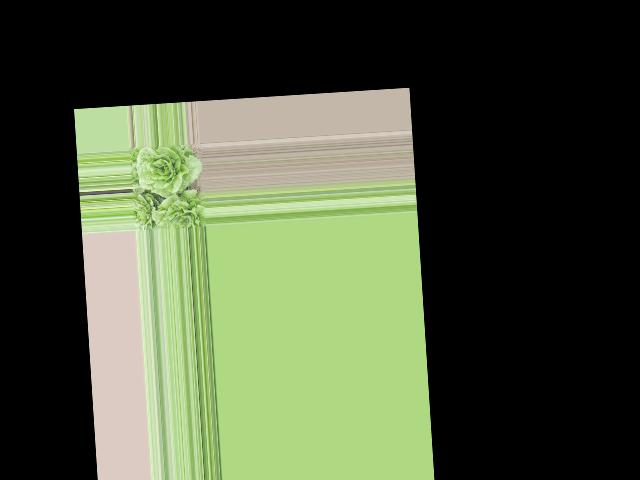lettuce: (150, 193, 204, 231)
